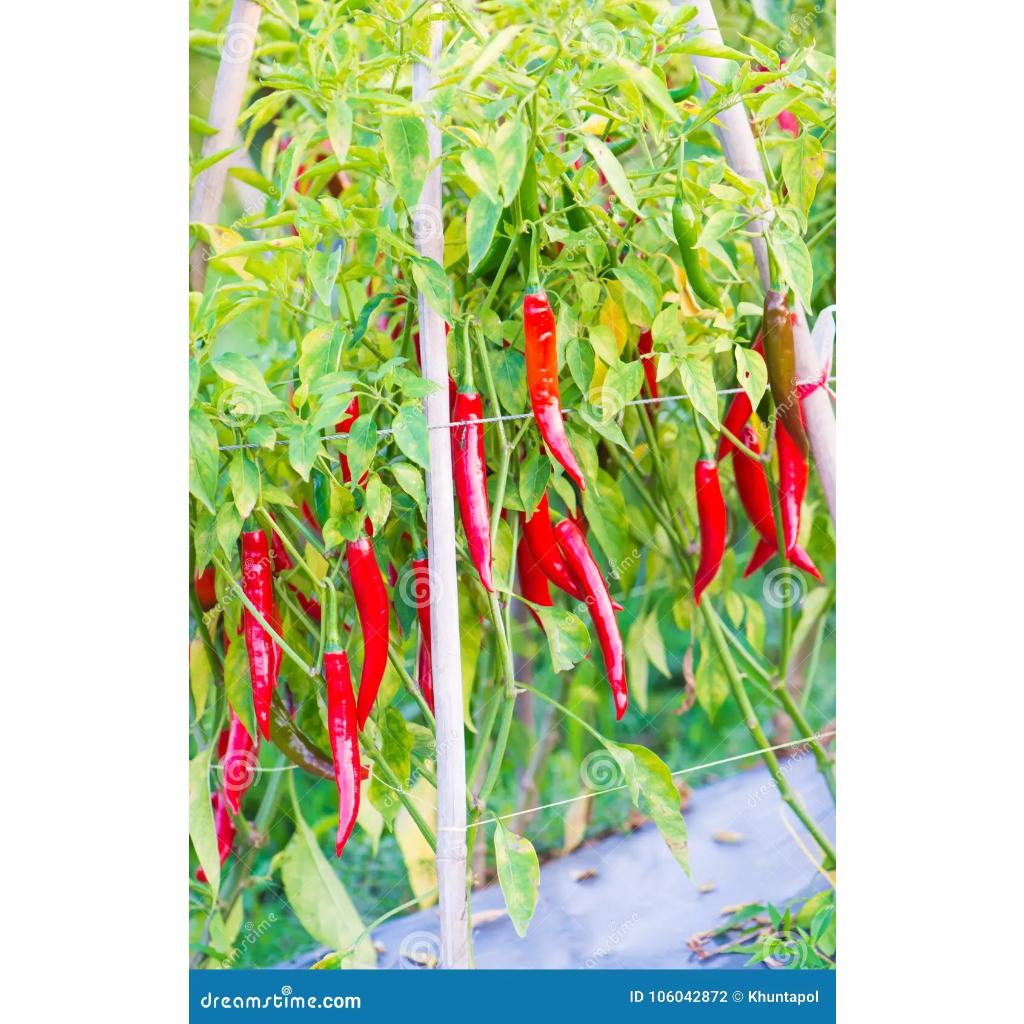chili: (552, 518, 626, 719), (522, 292, 584, 490), (450, 318, 492, 592), (346, 538, 388, 729), (322, 650, 360, 855), (520, 492, 584, 600), (732, 424, 776, 577), (692, 458, 726, 603), (774, 420, 808, 558), (244, 610, 274, 739), (240, 530, 272, 623), (516, 536, 552, 606)
